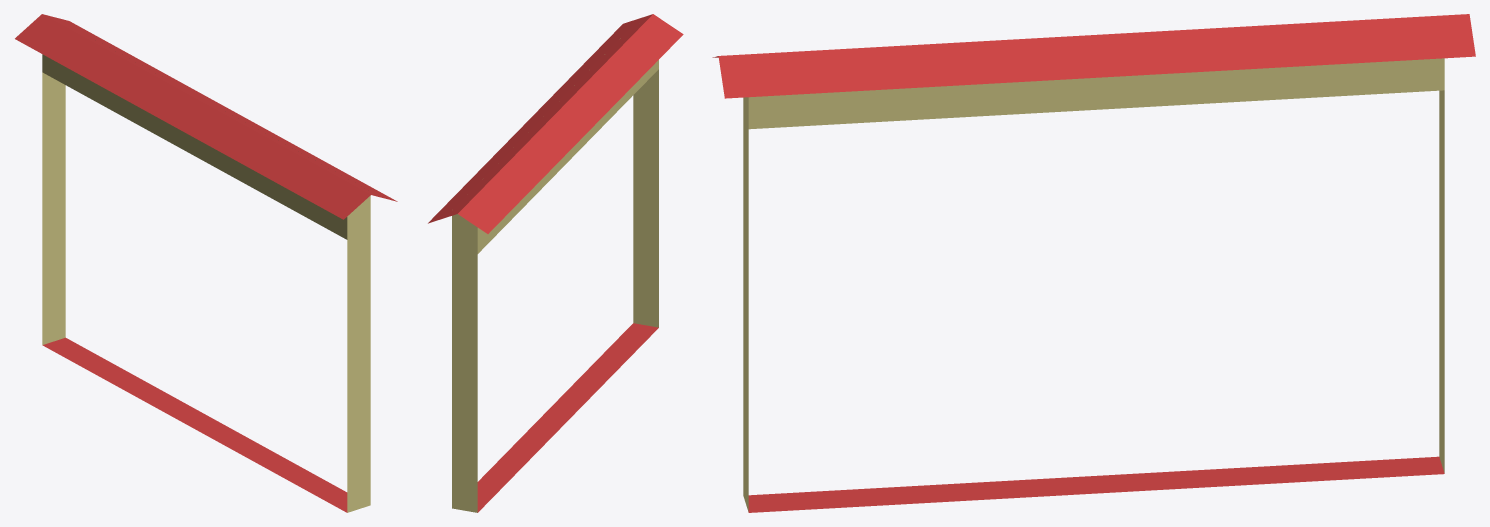
3 renders of one model, left to right at view 1: azimuth 30°, elevation 25°; view 2: azimuth 150°, elevation 25°; view 3: azimuth 270°, elevation 25°, orthographic. The views are drawn at different scales.
Size of the model in its own units: 5.28 by 20.61 by 13.39.
